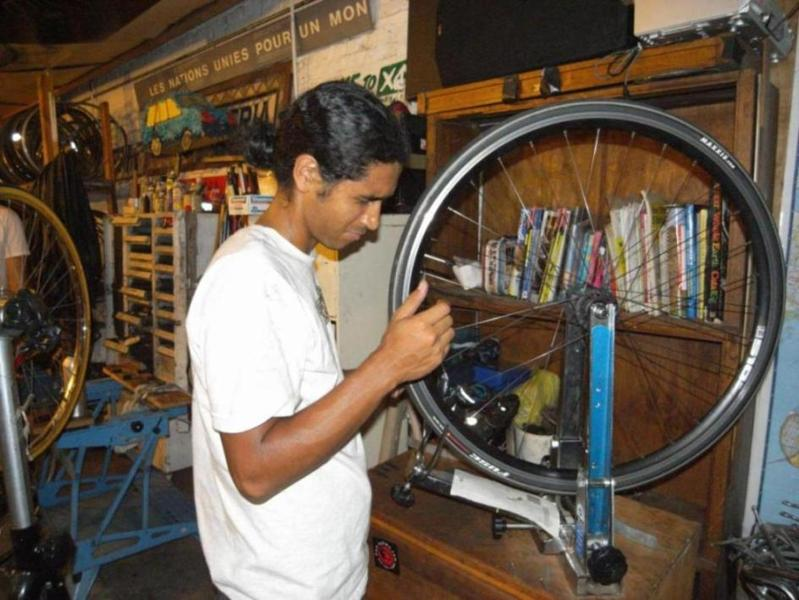person: (184, 84, 456, 600)
